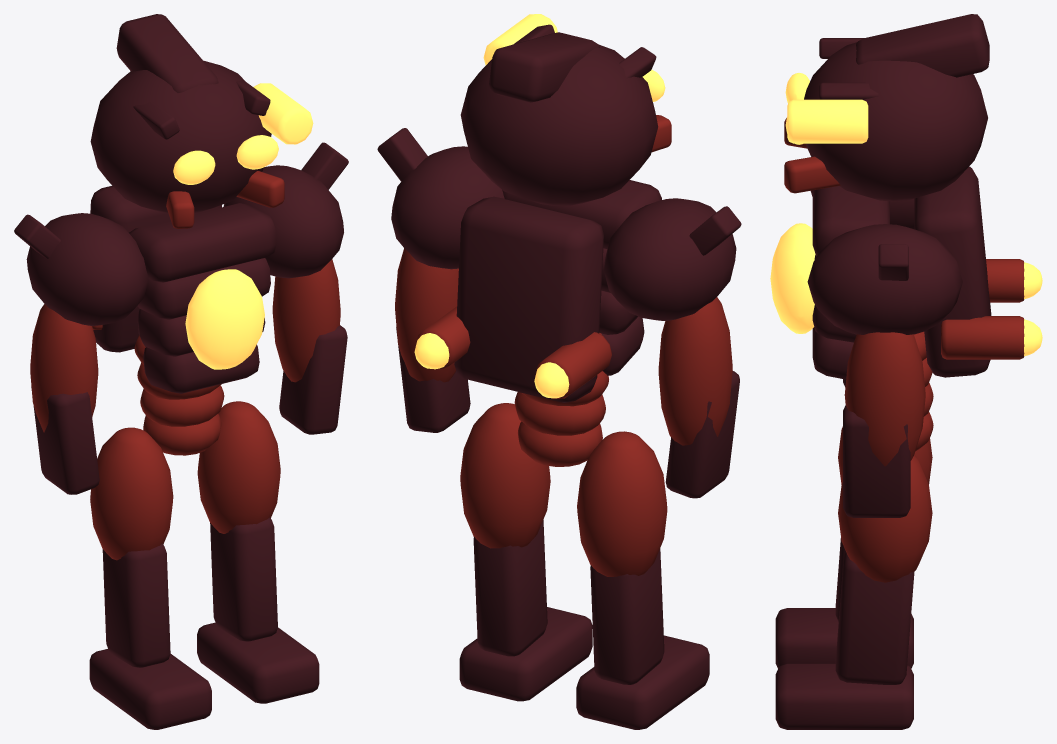
The model's file is Sentinel_EmberBrood_Armor.fbx.
3 views of the same model, side by side, from view 1: azimuth 30°, elevation 25°; view 2: azimuth 150°, elevation 25°; view 3: azimuth 270°, elevation 25° (orthographic). The views are drawn at different scales.
Visible parts, largest first — view 1: Cranium.001, CarapaceShoulder_L.001, ThighMuscle_L.001, ThighMuscle_R.001, ThoraxPlate_00.001, ReverseShin_R.001, ReverseShin_L.001, CarapaceShoulder_R.001, ClawedFoot_R.001, ClawedFoot_L.001, MoltenHeart.001, UpperLimb_L.001 (+20 smaller); view 2: DorsalCarapace.001, Cranium.001, CarapaceShoulder_L.001, ThighMuscle_L.001, ThighMuscle_R.001, UpperLimb_L.001, CarapaceShoulder_R.001, ReverseShin_L.001, ReverseShin_R.001, ClawedFoot_R.001, ClawedFoot_L.001, UpperLimb_R.001 (+17 smaller); view 3: Cranium.001, CarapaceShoulder_R.001, UpperLimb_R.001, ReverseShin_R.001, DorsalCarapace.001, ClawedFoot_R.001, ThighMuscle_R.001, Crown.001, ClawGuard_R.001, MoltenHeart.001, ClawedFoot_L.001, Rangefinder.001 (+14 smaller).
Boxes of the visible parts, bbox=[...] form: Cranium.001: bbox=[90, 60, 271, 213]; CarapaceShoulder_L.001: bbox=[26, 213, 148, 325]; ThighMuscle_L.001: bbox=[90, 427, 173, 560]; ThighMuscle_R.001: bbox=[197, 401, 280, 533]; ThoraxPlate_00.001: bbox=[129, 203, 276, 282]; ReverseShin_R.001: bbox=[210, 517, 277, 641]; ReverseShin_L.001: bbox=[102, 543, 170, 667]; CarapaceShoulder_R.001: bbox=[223, 165, 343, 278]; ClawedFoot_R.001: bbox=[197, 622, 319, 703]; ClawedFoot_L.001: bbox=[89, 649, 211, 729]; MoltenHeart.001: bbox=[185, 269, 264, 369]; UpperLimb_L.001: bbox=[30, 304, 98, 432]; DorsalCarapace.001: bbox=[454, 196, 603, 402]; Cranium.001: bbox=[460, 45, 658, 205]; CarapaceShoulder_L.001: bbox=[604, 198, 736, 320]; ThighMuscle_L.001: bbox=[577, 431, 667, 576]; ThighMuscle_R.001: bbox=[460, 403, 550, 548]; UpperLimb_L.001: bbox=[658, 297, 732, 445]; CarapaceShoulder_R.001: bbox=[391, 146, 504, 269]; ReverseShin_L.001: bbox=[590, 548, 664, 684]; ReverseShin_R.001: bbox=[473, 520, 547, 656]; ClawedFoot_R.001: bbox=[459, 607, 592, 701]; ClawedFoot_L.001: bbox=[576, 635, 709, 729]; UpperLimb_R.001: bbox=[395, 248, 458, 382]; Cranium.001: bbox=[804, 42, 987, 201]; CarapaceShoulder_R.001: bbox=[807, 224, 962, 334]; UpperLimb_R.001: bbox=[844, 332, 925, 466]; ReverseShin_R.001: bbox=[835, 552, 914, 684]; DorsalCarapace.001: bbox=[914, 166, 991, 377]; ClawedFoot_R.001: bbox=[775, 663, 913, 729]; ThighMuscle_R.001: bbox=[838, 455, 932, 582]; Crown.001: bbox=[856, 14, 989, 77]; ClawGuard_R.001: bbox=[843, 405, 910, 517]; MoltenHeart.001: bbox=[770, 223, 815, 333]; ClawedFoot_L.001: bbox=[775, 608, 913, 668]; Rangefinder.001: bbox=[787, 99, 868, 143].
Size of the model in its own units: 234 by 436 by 161.
